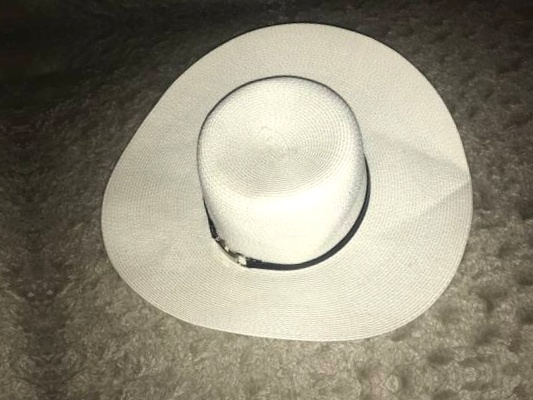Hat: (61, 0, 501, 389), (19, 0, 458, 30), (0, 44, 1, 400)
